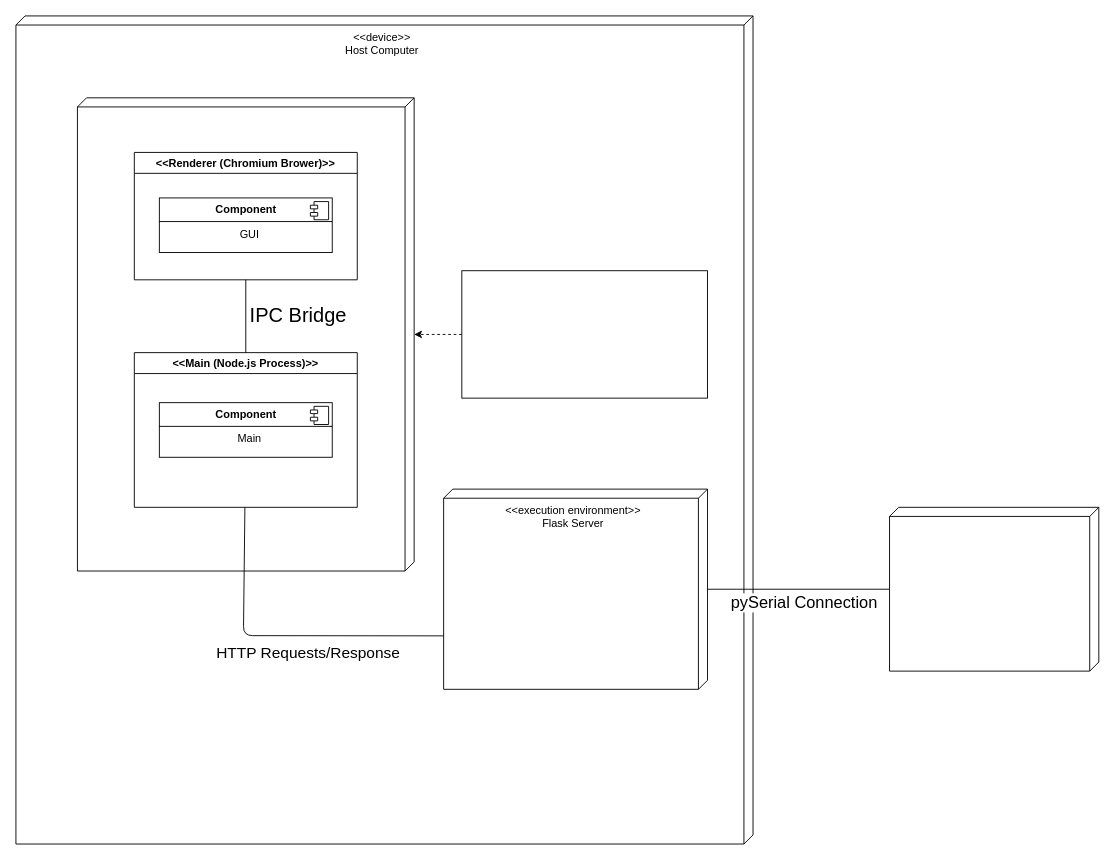
The diagram is 1115 pixels wide and 860 high, and some of its shapes have lost their labels. The box of each missing label's shape, as (x1, y1, x2, y2) in pixels:
<<artifact>> GroundstationGUI.exe: (461, 270, 708, 398)
<<device>> Radio: (889, 506, 1099, 671)
<<execution environment>> Electron Application: (77, 97, 414, 571)
